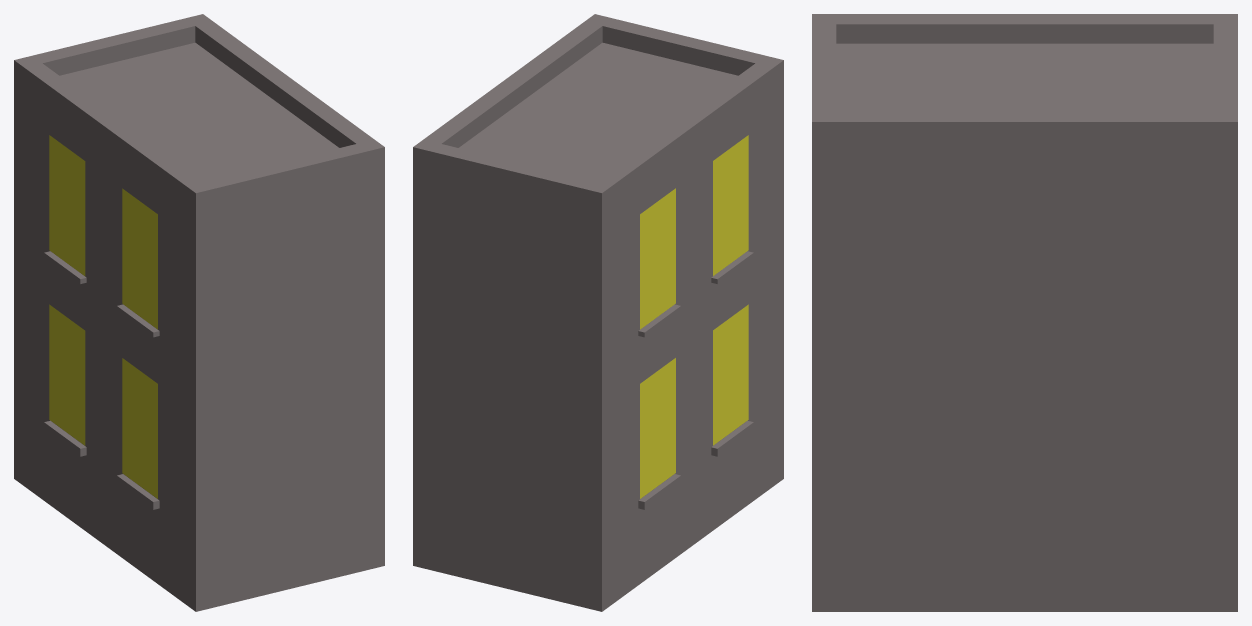
File: haus2.fbx
3 views of the same model, side by side, from view 1: azimuth 30°, elevation 25°; view 2: azimuth 150°, elevation 25°; view 3: azimuth 270°, elevation 25° (orthographic). The views are drawn at different scales.
Visible parts, largest first — view 1: Haus, window2, window4, window1, window3; view 2: Haus, window2, window1, window3, window4; view 3: Haus.
Boxes of the visible parts, x1=… form: Haus: x1=14, y1=14, x2=384, y2=611; window2: x1=49, y1=304, x2=85, y2=445; window4: x1=49, y1=135, x2=85, y2=275; window1: x1=122, y1=358, x2=157, y2=498; window3: x1=122, y1=188, x2=157, y2=329; Haus: x1=413, y1=14, x2=783, y2=611; window2: x1=640, y1=358, x2=675, y2=498; window1: x1=713, y1=304, x2=748, y2=445; window3: x1=713, y1=135, x2=748, y2=275; window4: x1=640, y1=188, x2=675, y2=329; Haus: x1=812, y1=14, x2=1237, y2=611.
Bounding box in the file's own units: 310 × 635 × 500.
